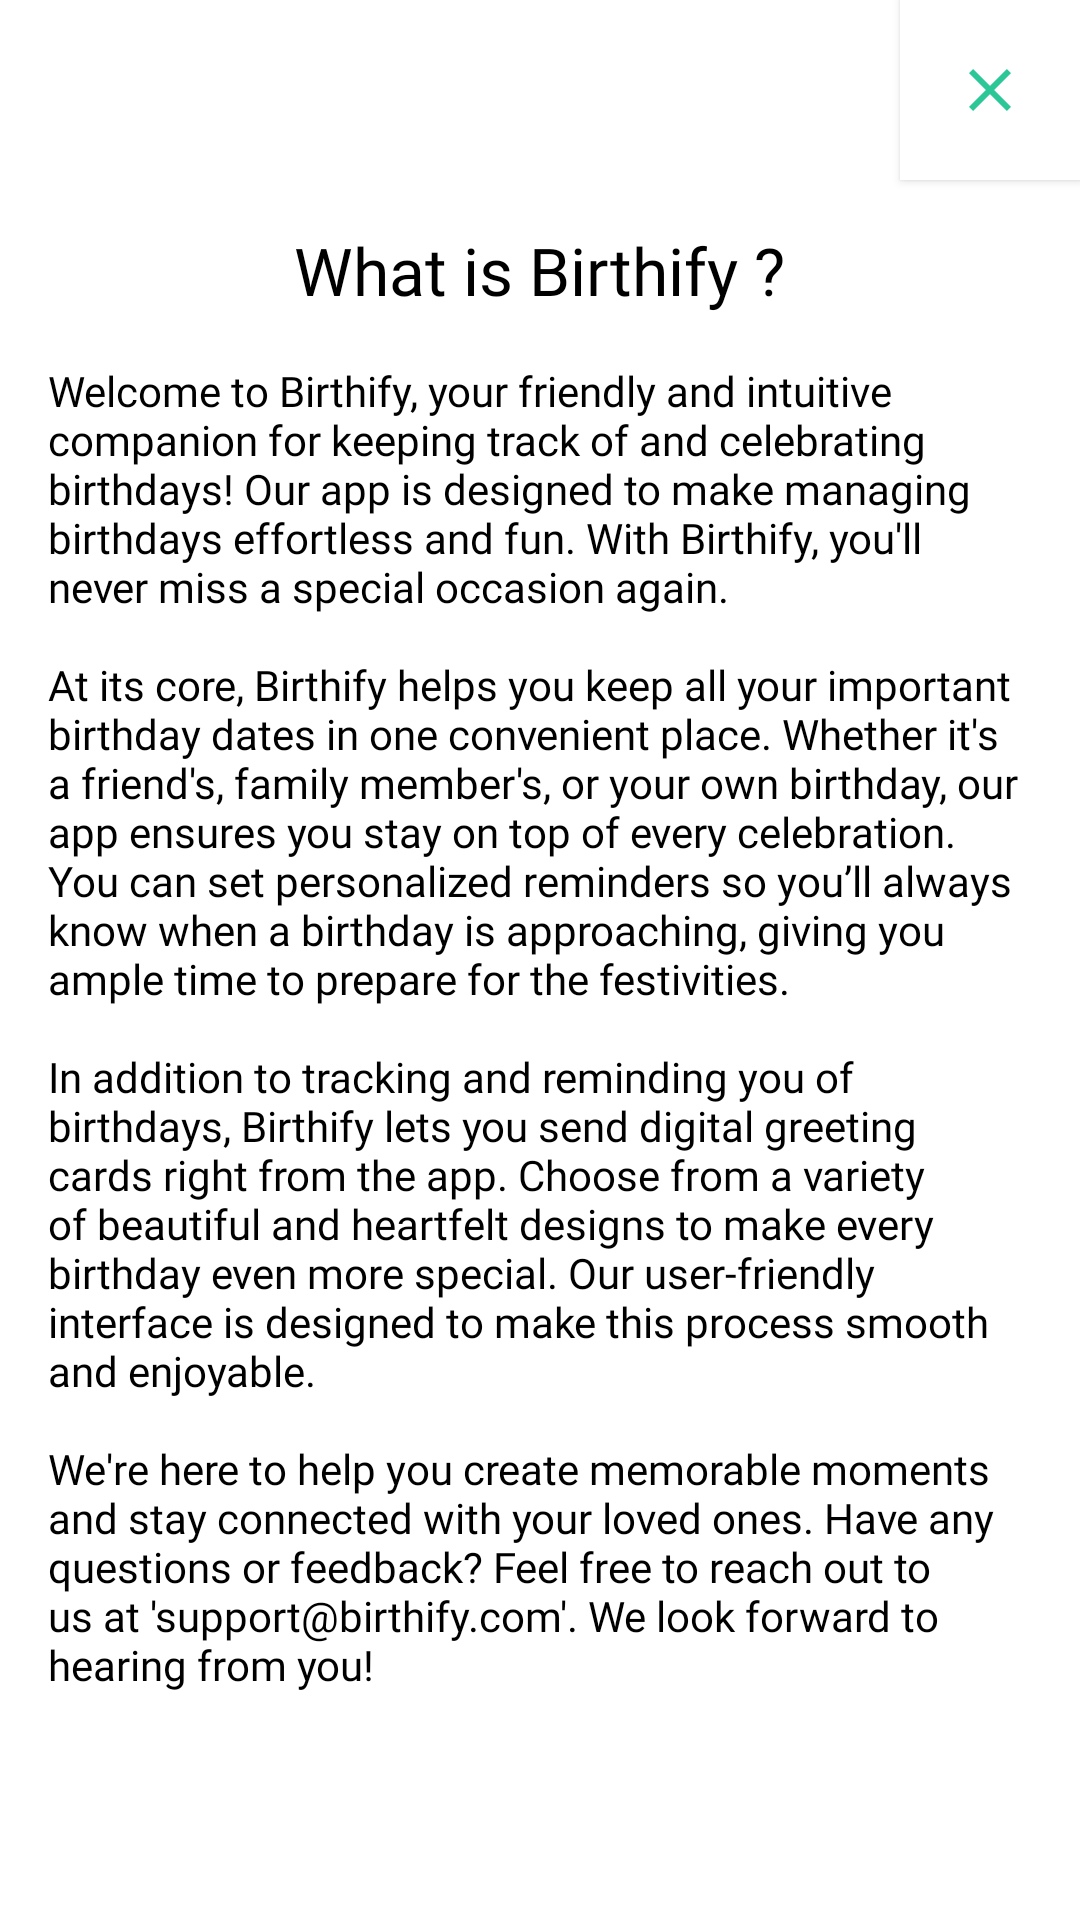

Icons on this 1080×1920 Android screen, each with its box as region(x1, y1, x2, y2):
Close Btn: region(969, 69, 1011, 111)
